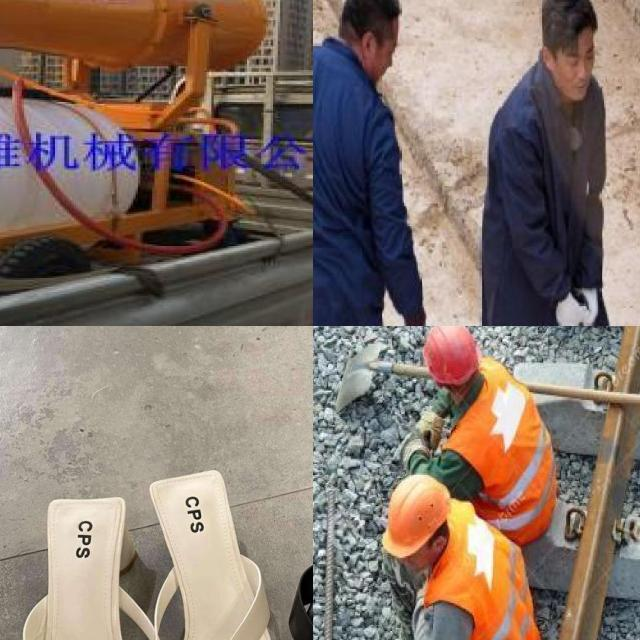Sandals: (3, 463, 292, 640)
face_nomask: (540, 40, 602, 96), (360, 22, 402, 93)
hand_glove: (575, 280, 598, 326), (554, 297, 582, 326)
head_helmet: (377, 473, 448, 558), (418, 326, 481, 385)
head_nohelmet: (533, 0, 597, 43), (334, 0, 410, 31)
person: (488, 0, 640, 326), (313, 0, 436, 326), (391, 326, 569, 549), (356, 478, 549, 640)
vest: (441, 350, 559, 545), (416, 496, 546, 640)
